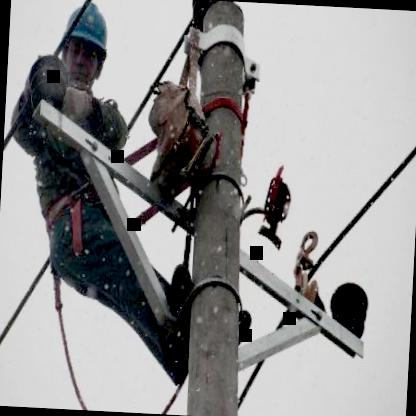helmet: (49, 0, 114, 97)
